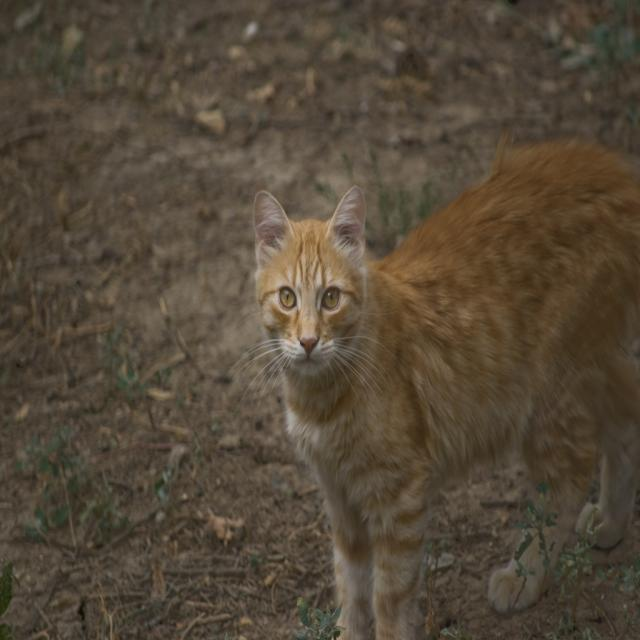Cat: (222, 121, 640, 639)
